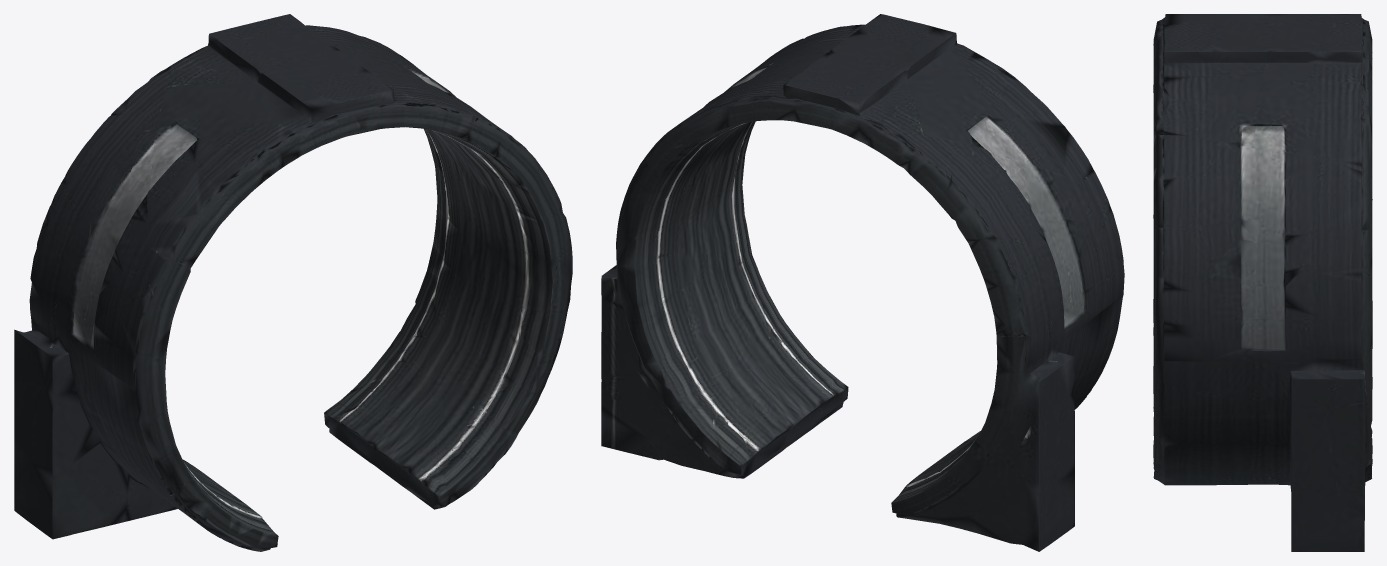
Rendered from tunnel_ring_p.glb.
The picture shows the model from 3 angles, left to right: view 1: azimuth 30°, elevation 25°; view 2: azimuth 150°, elevation 25°; view 3: azimuth 270°, elevation 25°; orthographic projection. The views are drawn at different scales.
Size of the model in its own units: 1.9 by 1.68 by 0.8119.
Materials: 1 (1 with a texture image).
